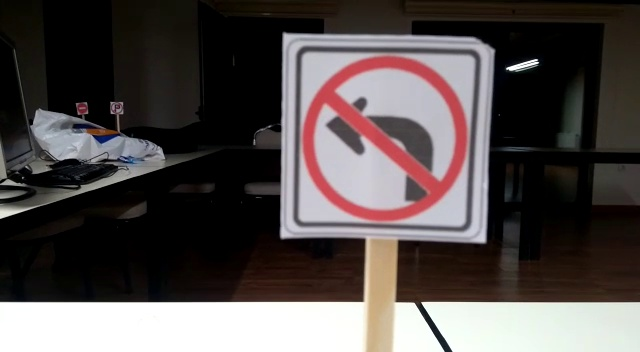sola_donulmez: (280, 48, 488, 226)
